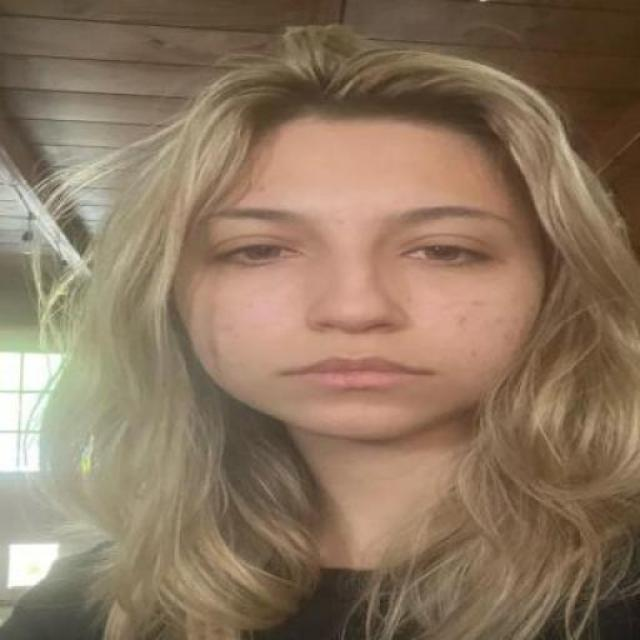Acne: (442, 288, 539, 360)
